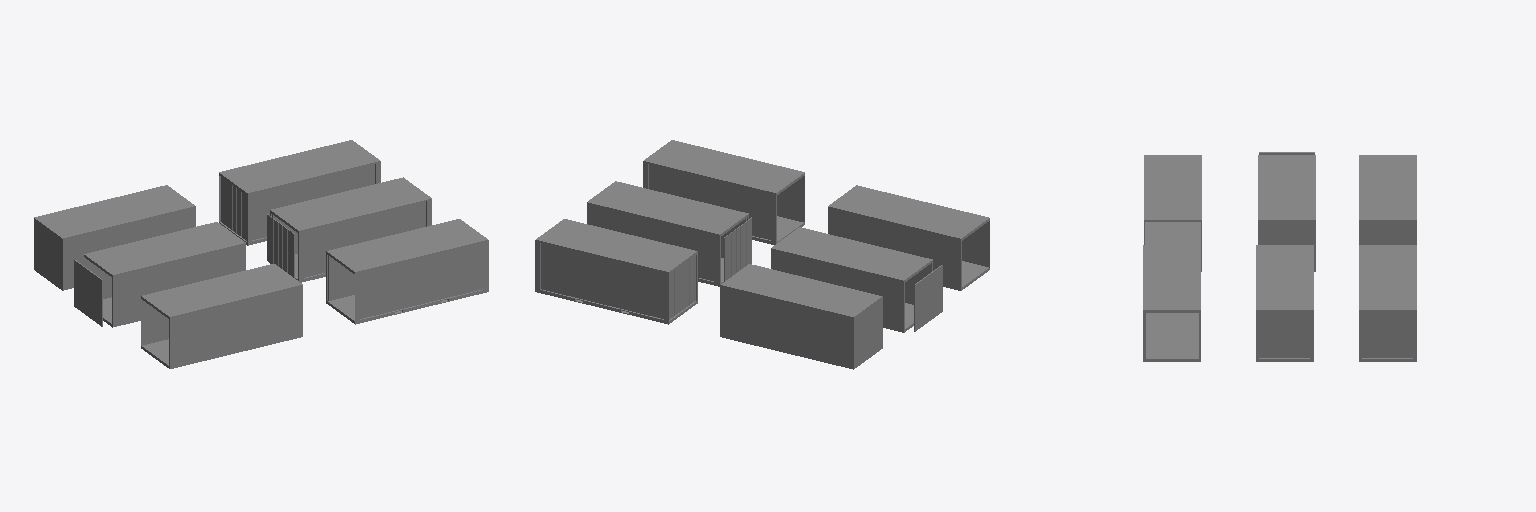
Rendered from containers.obj.
3 views of the same model, side by side, from view 1: azimuth 30°, elevation 25°; view 2: azimuth 150°, elevation 25°; view 3: azimuth 270°, elevation 25° (orthographic).
Visible parts, largest first — view 1: Cargo_container_v1.001; view 2: Cargo_container_v1.001; view 3: Cargo_container_v1.001.
Boxes of the visible parts, <box> form: Cargo_container_v1.001: <box>34,140,488,368</box>; Cargo_container_v1.001: <box>535,140,989,369</box>; Cargo_container_v1.001: <box>1143,152,1416,361</box>.
Size of the model in its own units: 56.19 by 8.55 by 40.44.